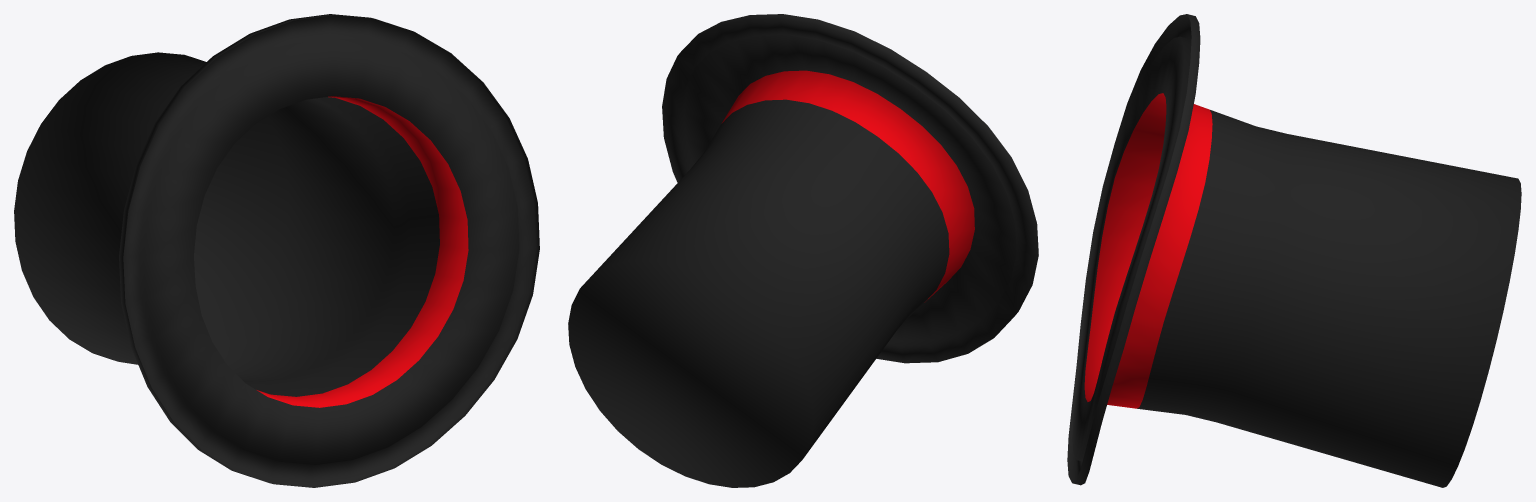
Rendered from TopHat.fbx.
3 renders of one model, left to right at view 1: azimuth 30°, elevation 25°; view 2: azimuth 150°, elevation 25°; view 3: azimuth 270°, elevation 25°, orthographic. The views are drawn at different scales.
Parts seen in each view (by area): view 1: Circle.001; view 2: Circle.001; view 3: Circle.001.
Boxes of the visible parts, bbox=[...] form: Circle.001: bbox=[14, 14, 539, 487]; Circle.001: bbox=[568, 14, 1038, 487]; Circle.001: bbox=[1067, 14, 1521, 487].
Size of the model in its own units: 86.02 by 85.59 by 80.85.
